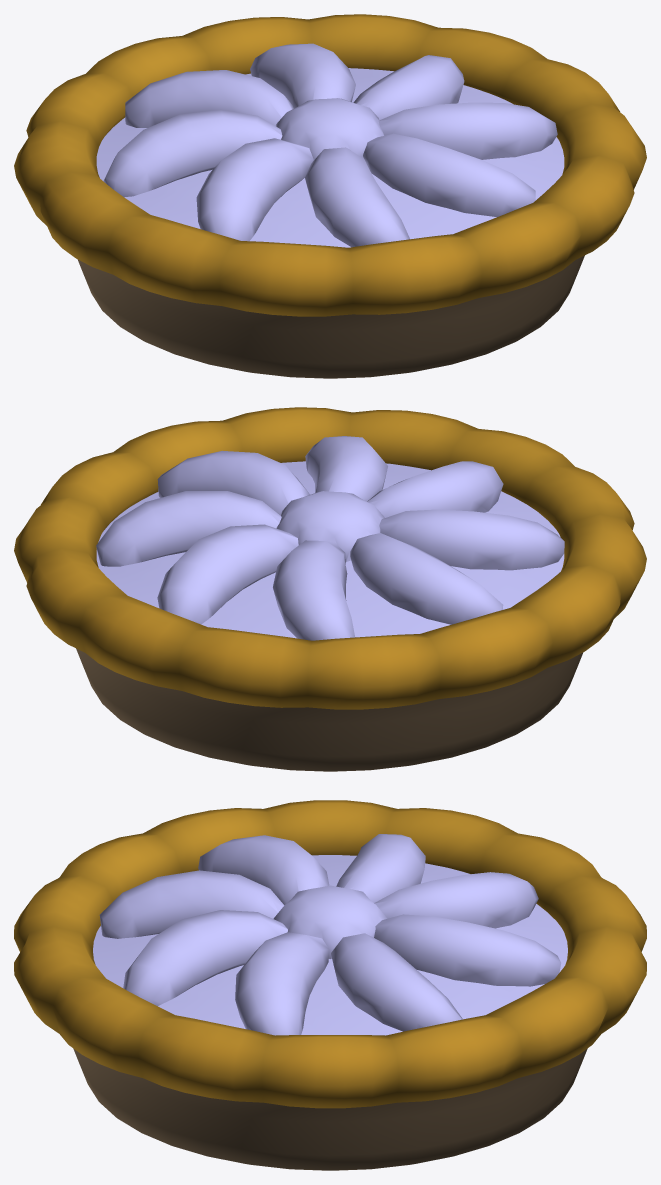
File: Ghostly_Crop_Pie.glb
3 views of the same model, one above another, from view 1: azimuth 30°, elevation 25°; view 2: azimuth 150°, elevation 25°; view 3: azimuth 270°, elevation 25° (orthographic).
Visible parts, largest first — view 1: Ghostly_Crop_Pie_Crust, Ghostly_Crop_Pie_Fill; view 2: Ghostly_Crop_Pie_Crust, Ghostly_Crop_Pie_Fill; view 3: Ghostly_Crop_Pie_Crust, Ghostly_Crop_Pie_Fill.
Part boxes in pixels (x1,y1,x2,y2): Ghostly_Crop_Pie_Crust: (14,14,646,378); Ghostly_Crop_Pie_Fill: (96,43,564,247); Ghostly_Crop_Pie_Crust: (14,407,646,771); Ghostly_Crop_Pie_Fill: (96,436,564,640); Ghostly_Crop_Pie_Crust: (14,800,646,1170); Ghostly_Crop_Pie_Fill: (93,834,567,1035).
Size of the model in its own units: 0.7243 by 0.222 by 0.7139.
